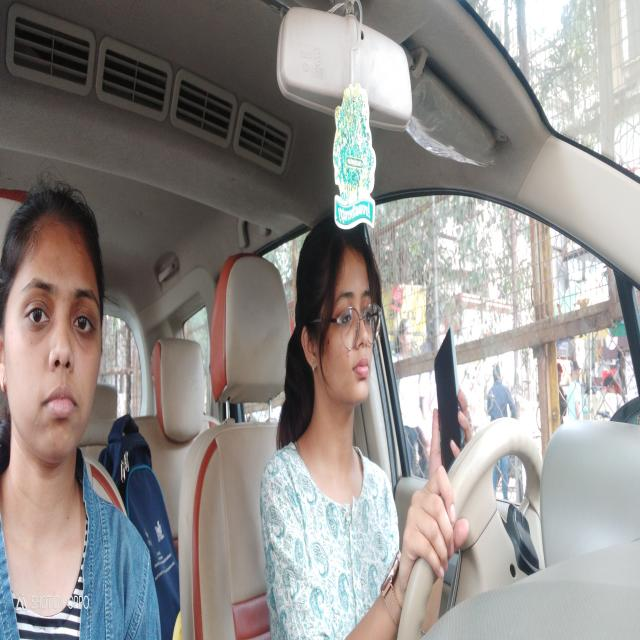mobile: (429, 321, 465, 482)
person: (0, 180, 111, 475), (294, 209, 385, 411)
